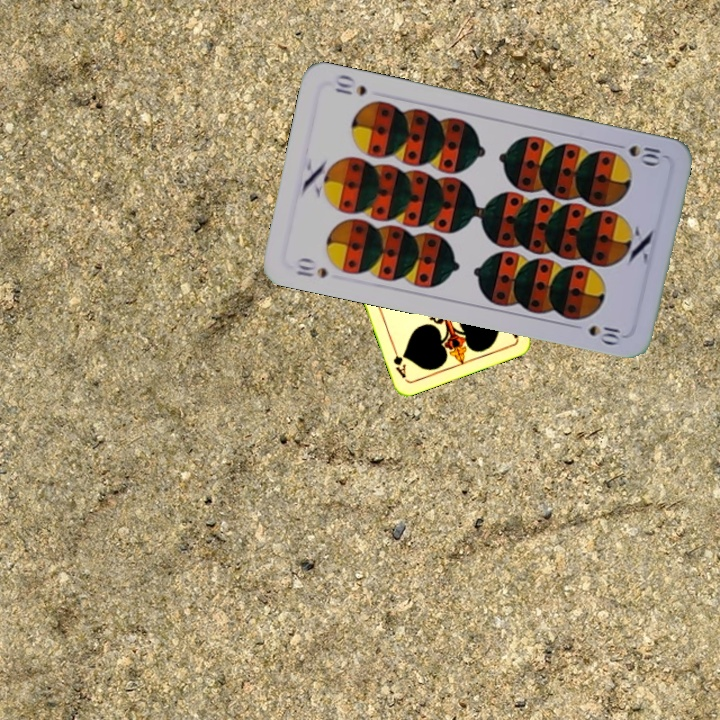S10: (609, 139, 667, 167), (292, 261, 330, 281)
